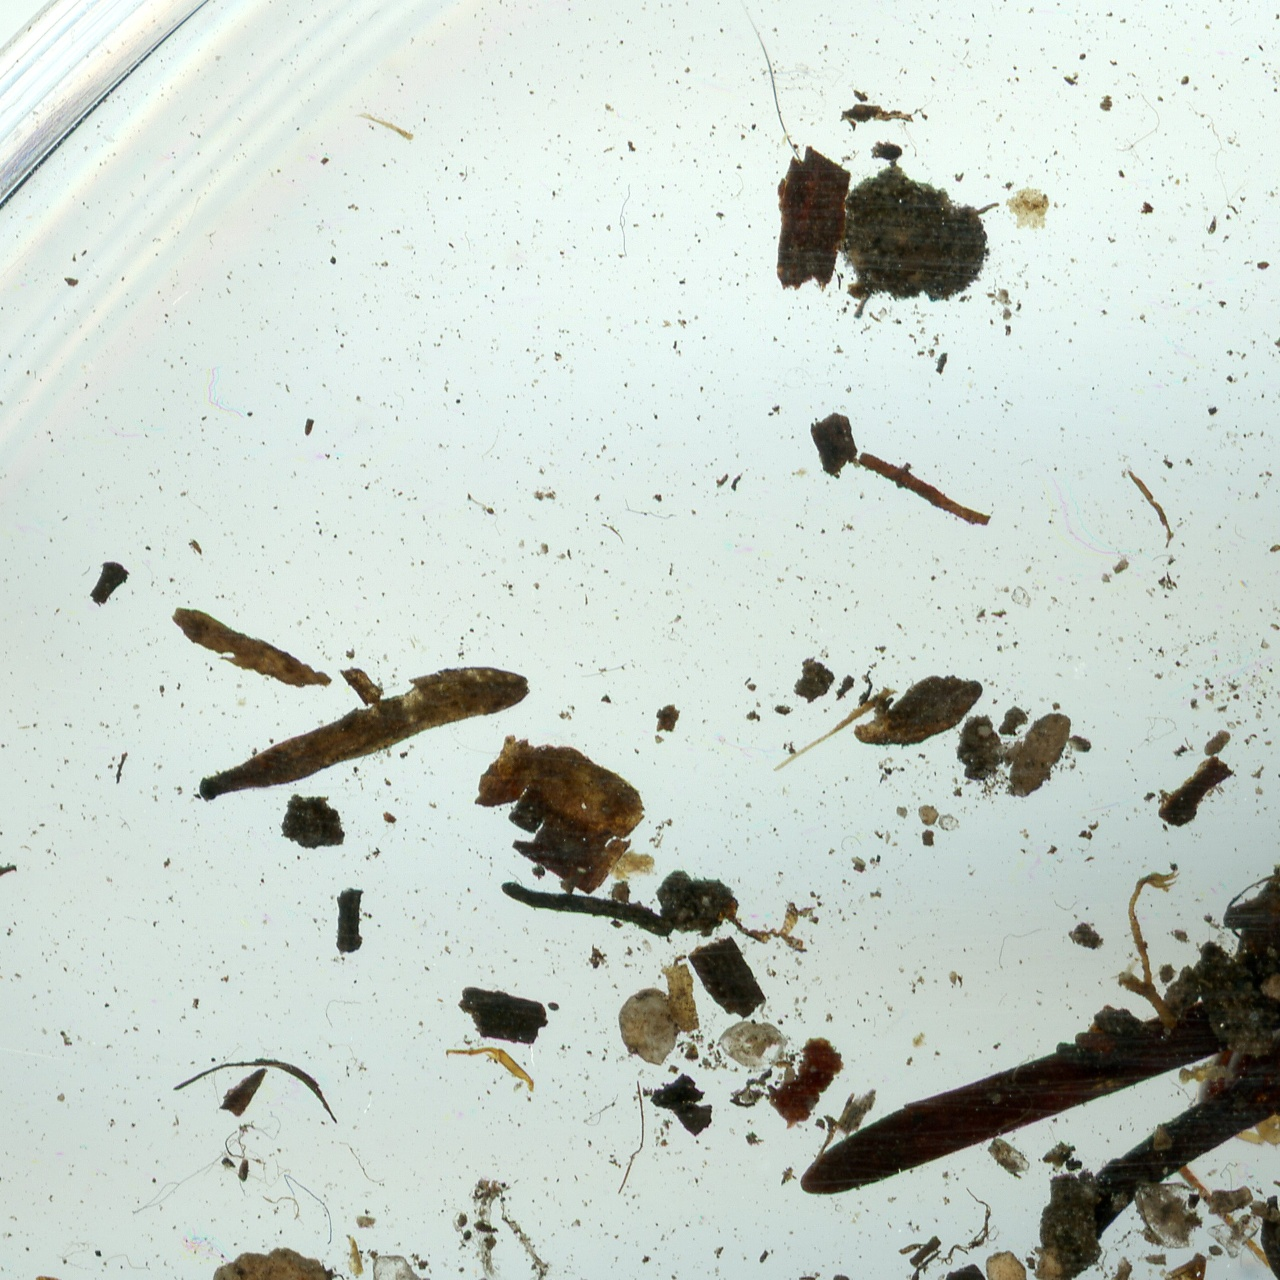arthropod: (1199, 986, 1280, 1280)
